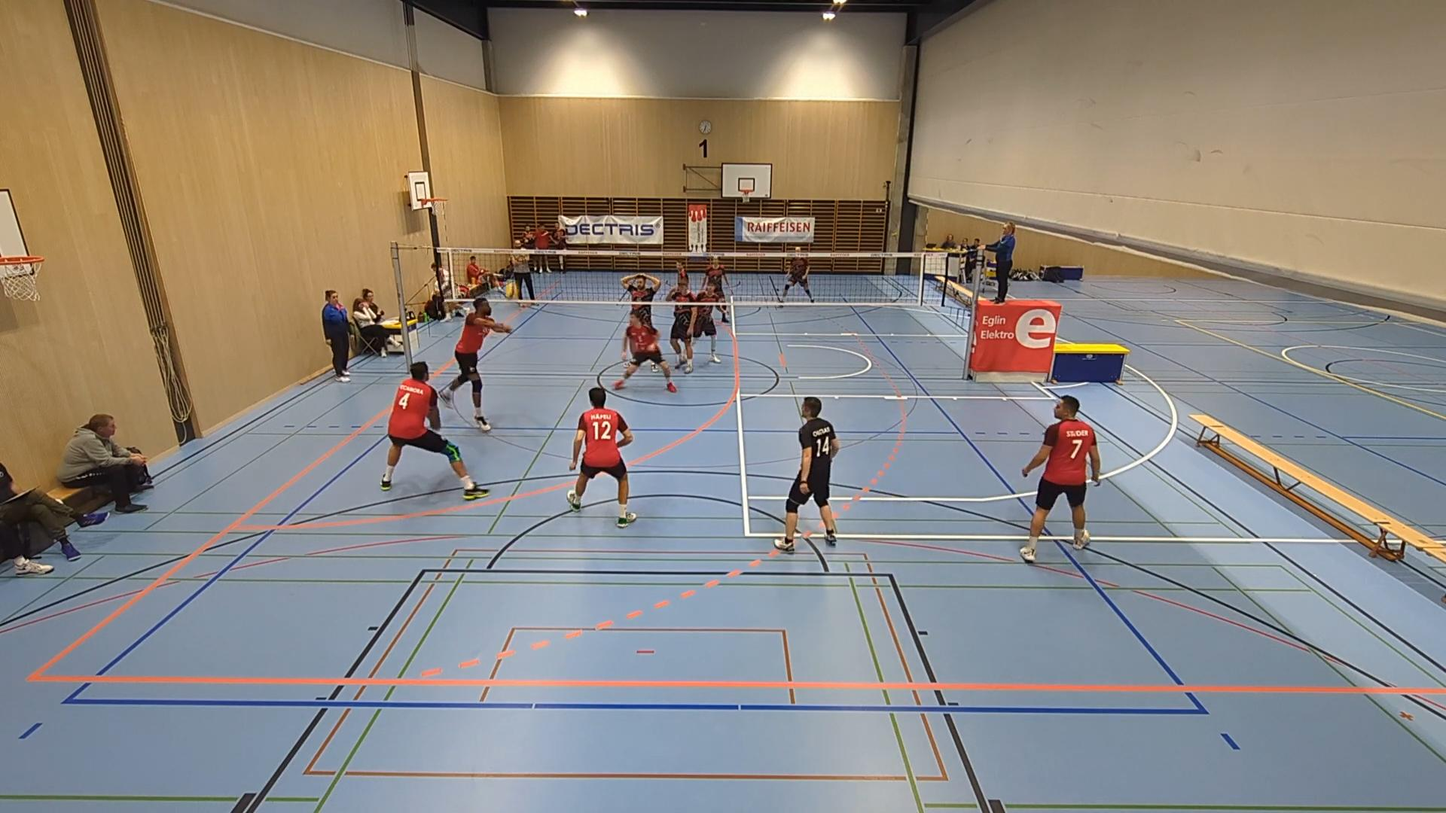difesa: (434, 303, 514, 434)
